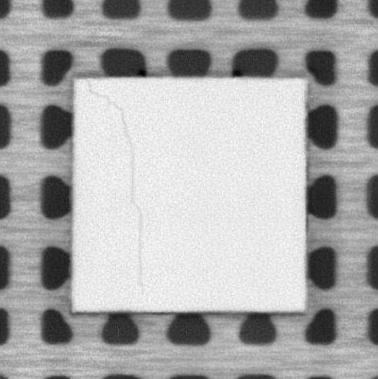DIE_CRACK: (83, 81, 148, 293)
